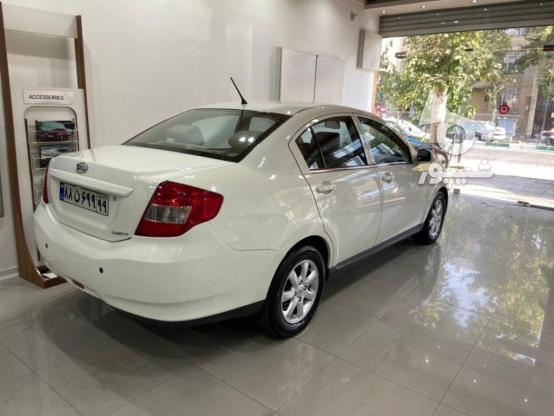car: (60, 181, 112, 218)
